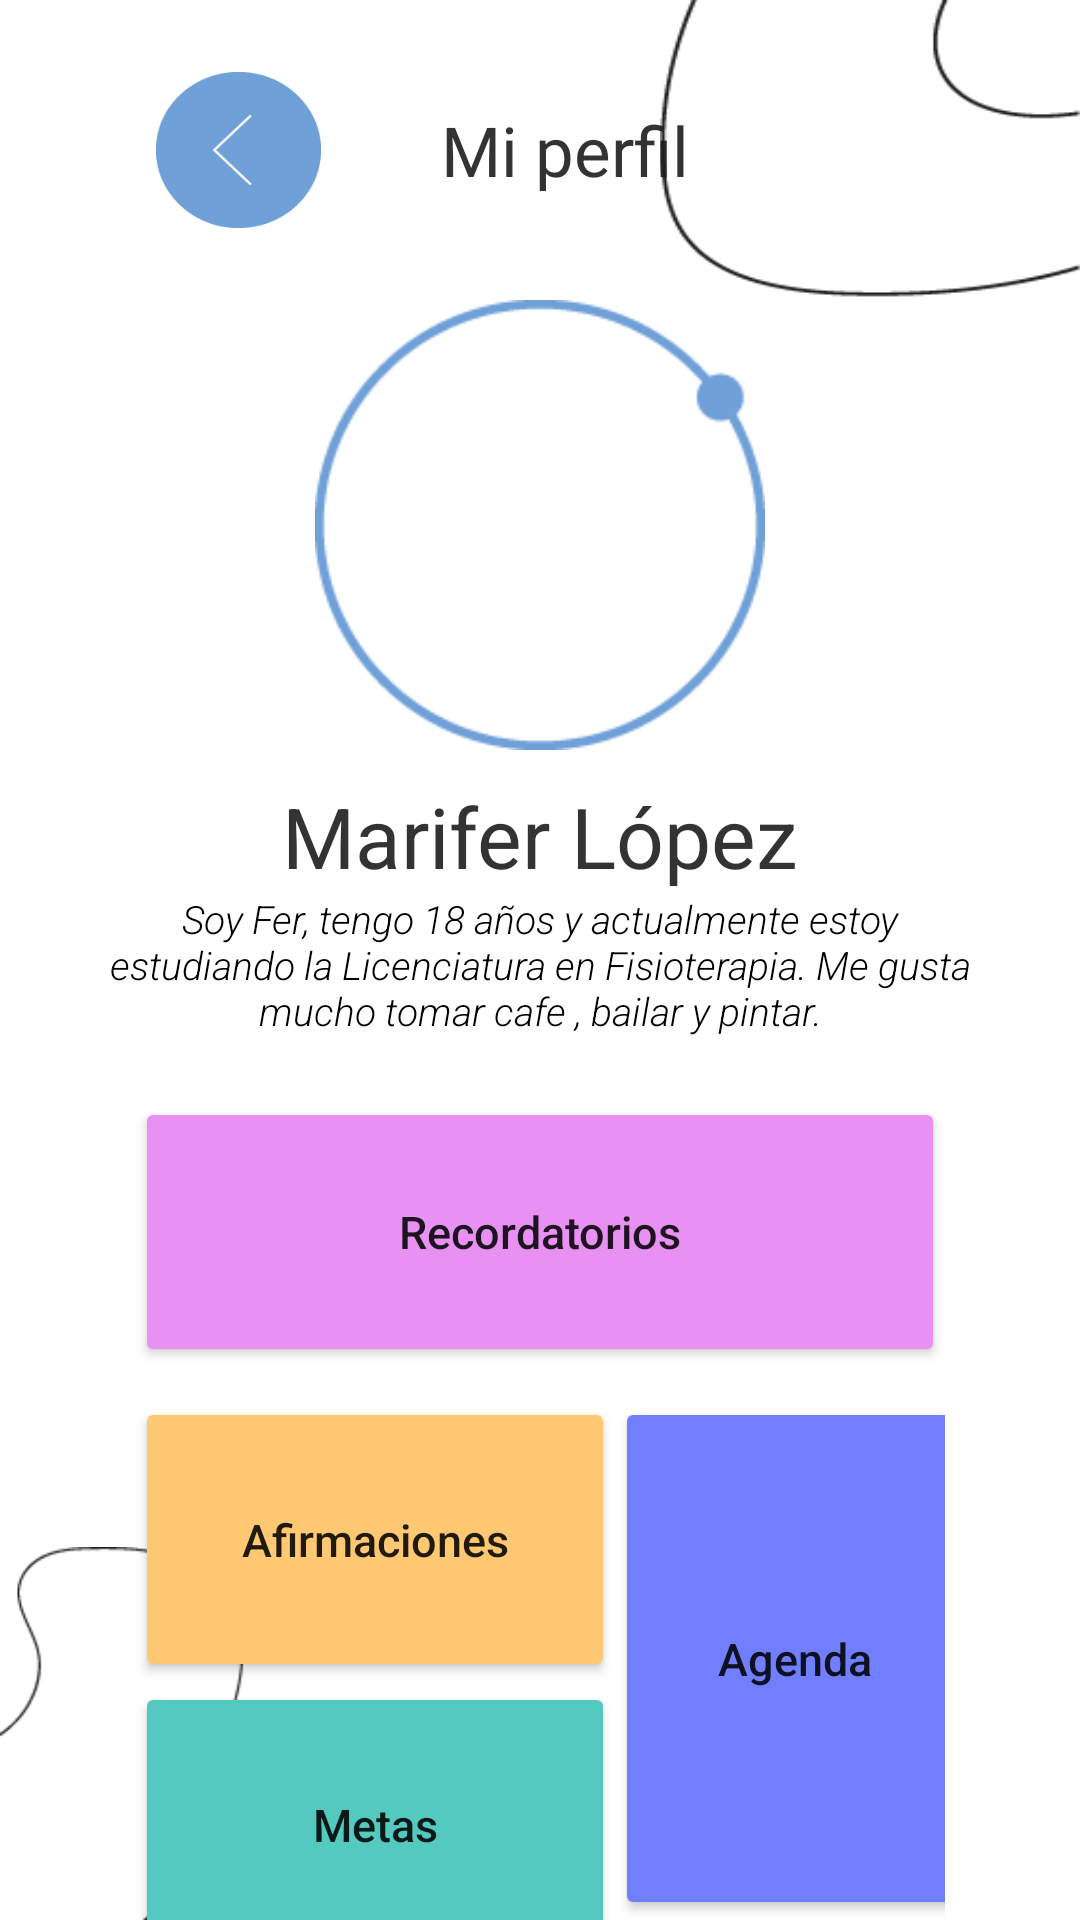

Named icons in this screenshot (1080×1920) and their bounding boxes, (x1,y1,x2,y2):
regresar xxxdpi: (156,72,321,228)
